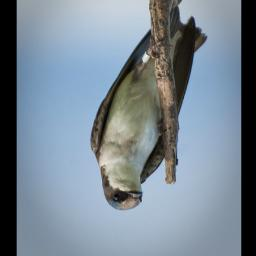Swallow: (90, 4, 209, 211)
